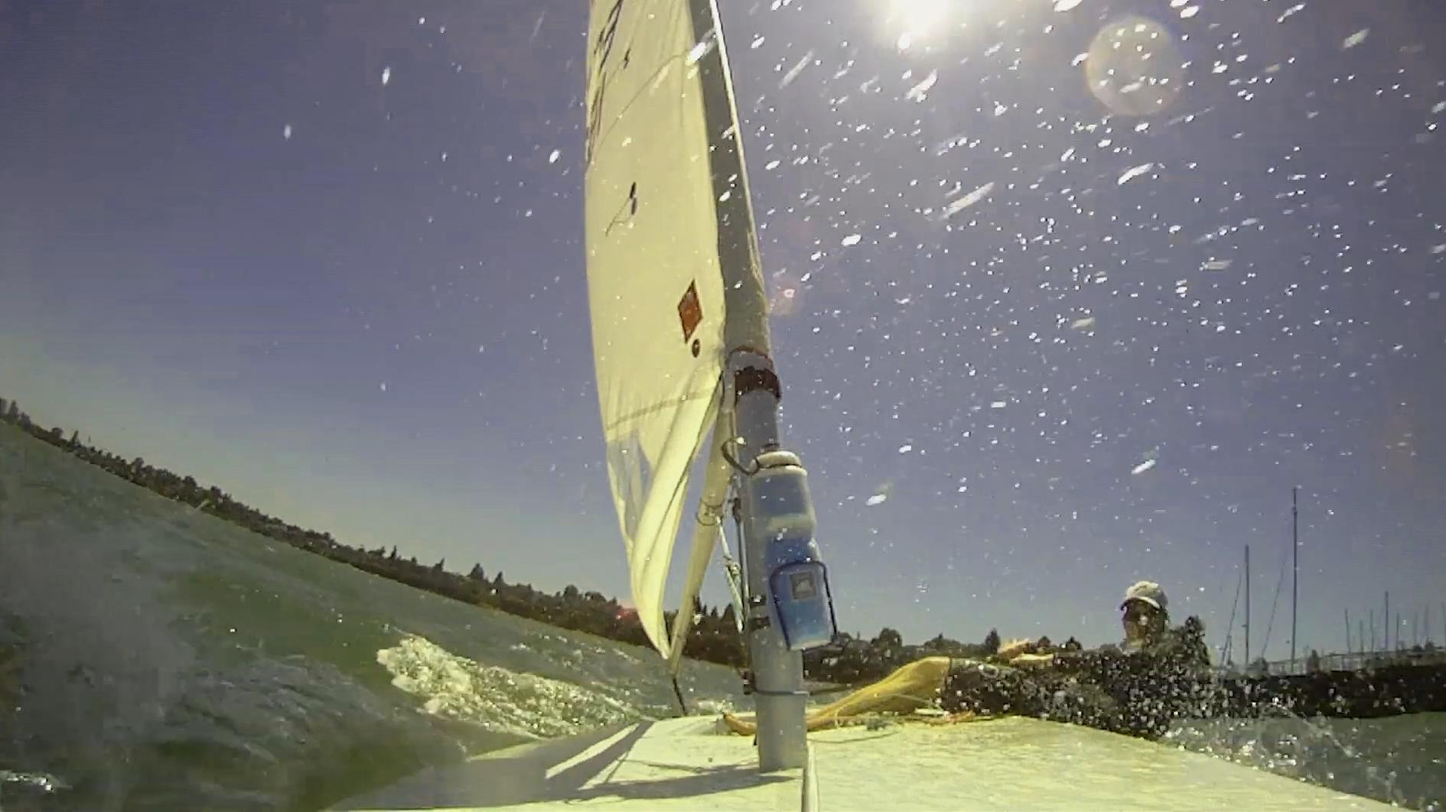boat: (325, 0, 1411, 812)
land: (0, 399, 652, 646), (1217, 654, 1446, 719), (795, 629, 915, 693), (678, 619, 748, 666)
person: (702, 582, 1199, 744)
sea: (0, 419, 747, 812), (1159, 711, 1446, 812)
sky: (712, 0, 1446, 670), (0, 0, 631, 602), (700, 543, 732, 617)
